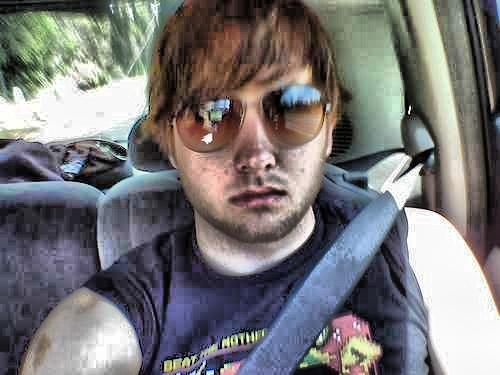seatbelt: (226, 141, 428, 365)
